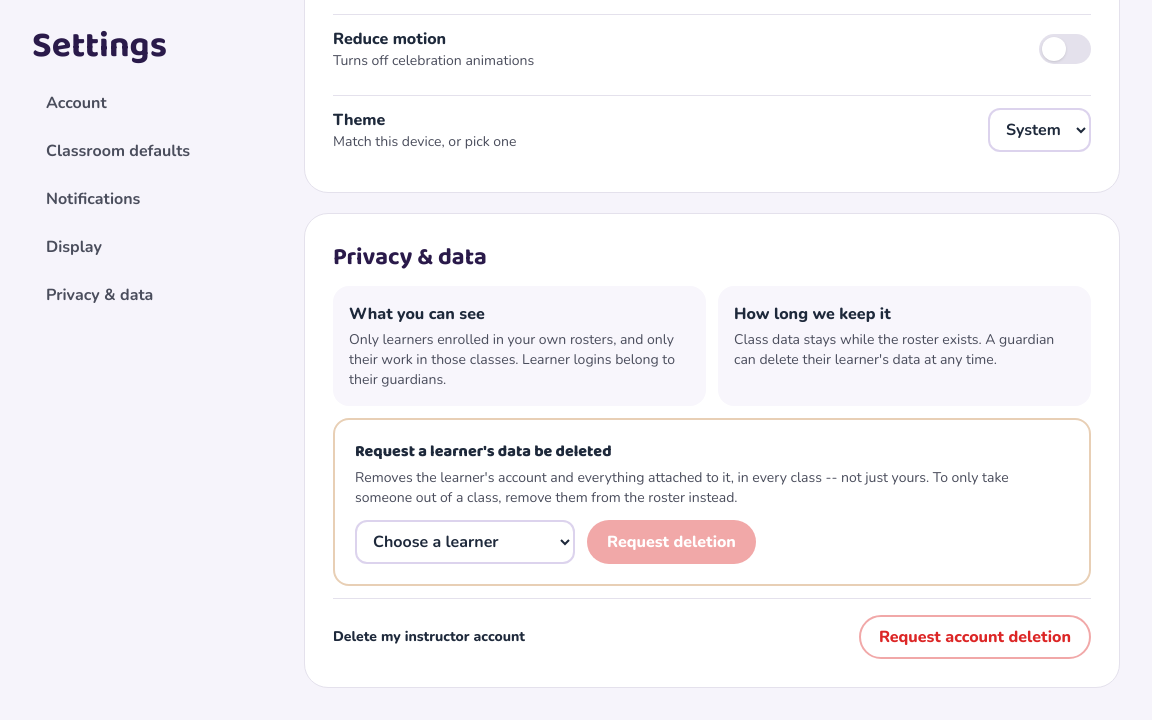
Scenario: InstructorSettingsFlow › submits a learner-deletion request and shows its real pending status
(page scrolled)
Select "Leo · algebra-1" in the dropdown showing "Choose a learner". click: (465, 542)
box: [355,520,575,564]
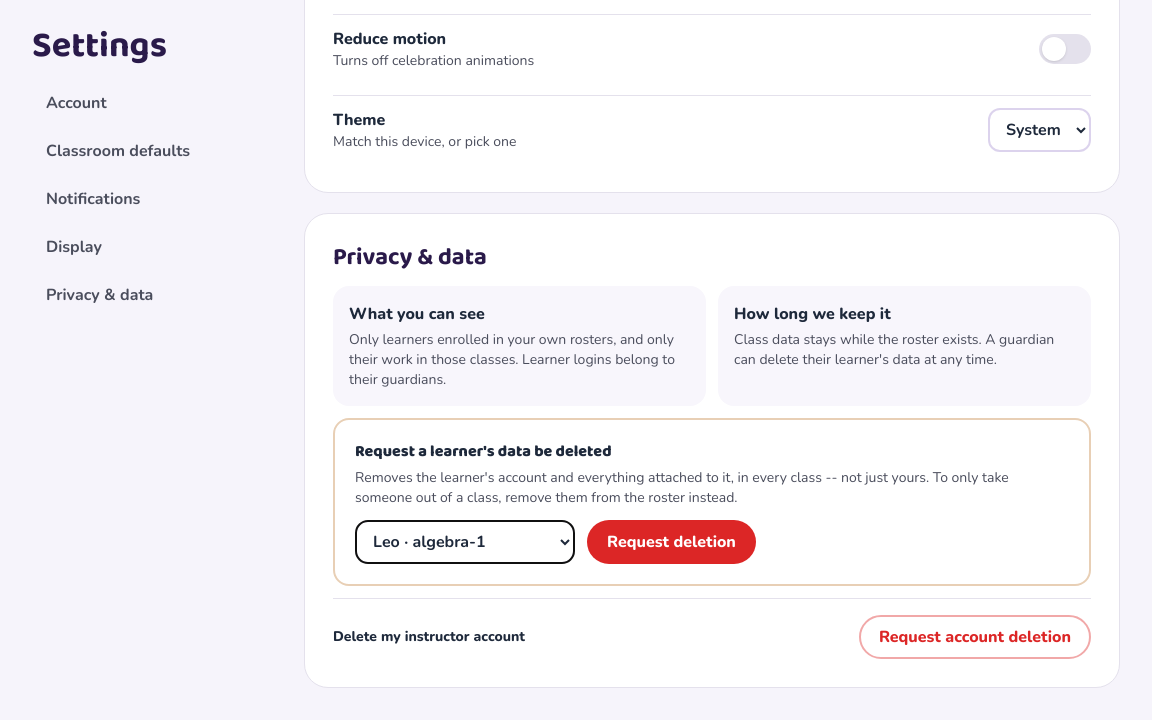
Click the button "Request deletion". click: (671, 542)
box: [587,520,756,564]
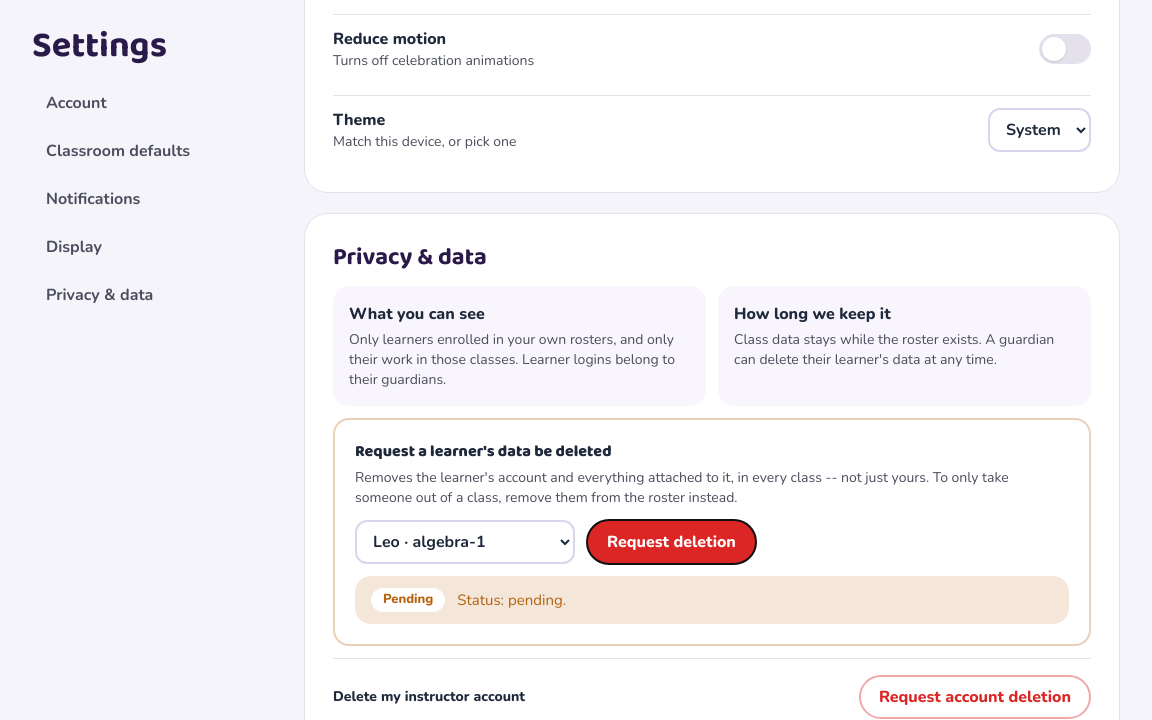
Result: the text "Status: pending." is shown at [457,588,566,611]
